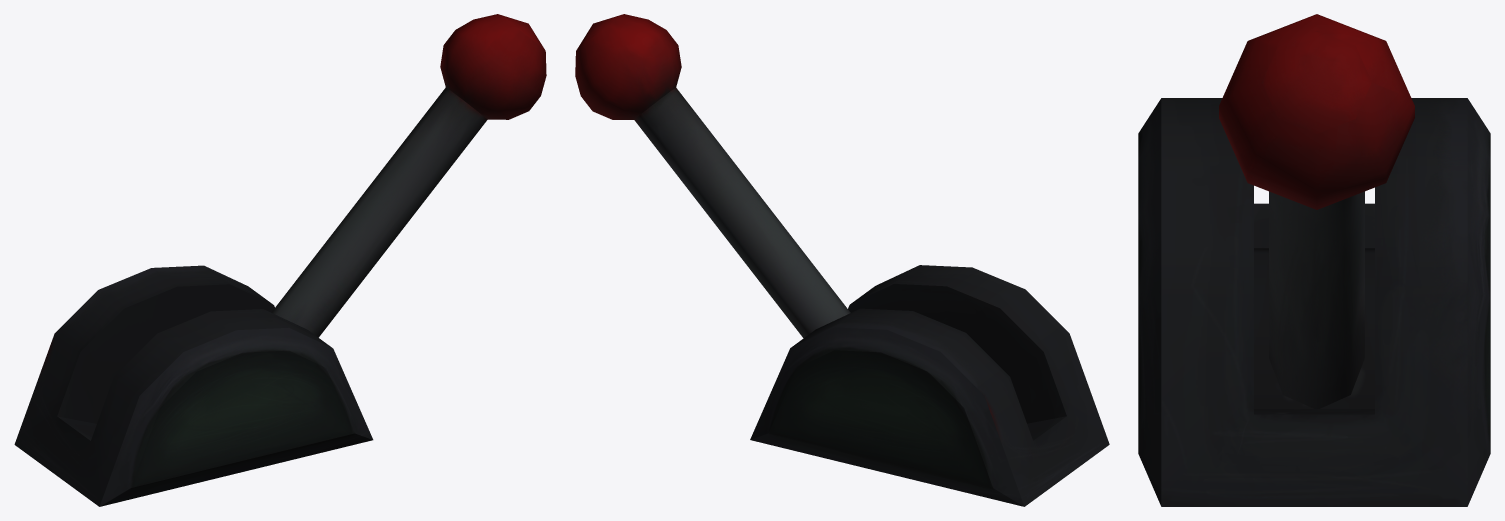
File: Lever Size Reference.fbx
3 views of the same model, side by side, from view 1: azimuth 30°, elevation 25°; view 2: azimuth 150°, elevation 25°; view 3: azimuth 270°, elevation 25° (orthographic). The views are drawn at different scales.
Parts seen in each view (by area): view 1: Base, Handle; view 2: Base, Handle; view 3: Base, Handle.
Boxes of the visible parts, <box> form: Base: <box>14,265,373,506</box>; Handle: <box>271,14,546,337</box>; Base: <box>750,265,1109,506</box>; Handle: <box>575,14,850,338</box>; Base: <box>1138,98,1490,506</box>; Handle: <box>1219,14,1414,408</box>.
Size of the model in its own units: 62 by 42.68 by 21.71.
